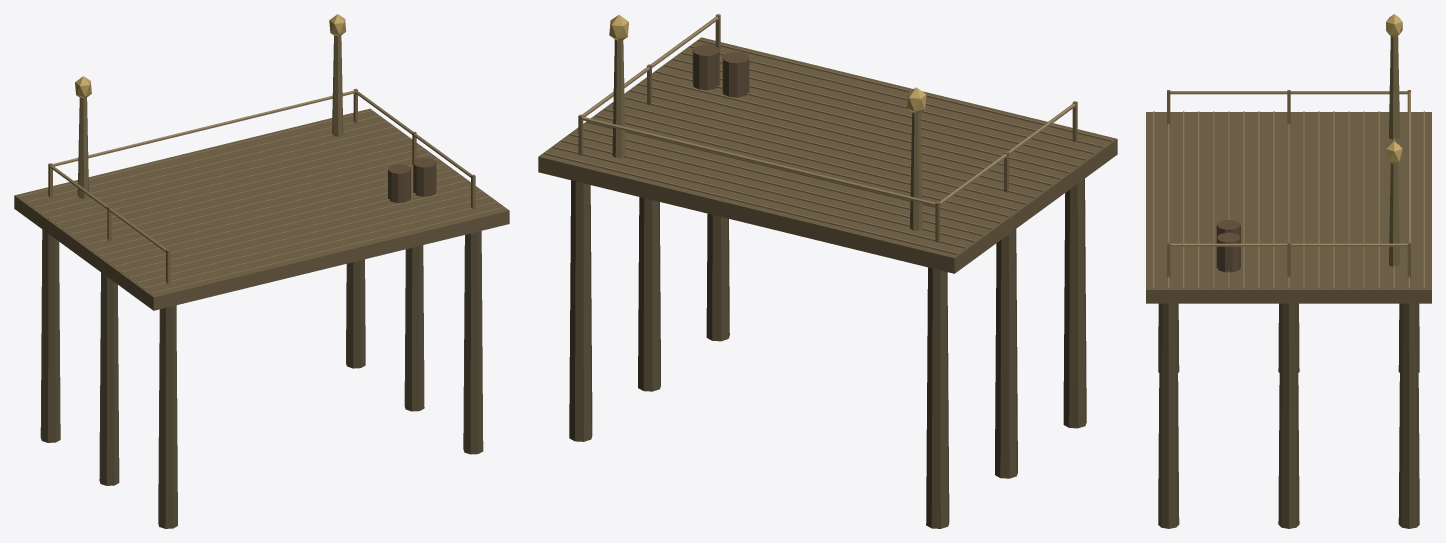
The model's file is dock.glb.
3 renders of one model, left to right at view 1: azimuth 30°, elevation 25°; view 2: azimuth 150°, elevation 25°; view 3: azimuth 270°, elevation 25°, orthographic. The views are drawn at different scales.
Visible parts, largest first — view 1: dock; view 2: dock; view 3: dock.
Boxes of the visible parts, x1,y1,x2,y2 form: dock: (14, 14, 509, 528); dock: (538, 14, 1117, 528); dock: (1146, 14, 1431, 528).
Size of the model in its own units: 28 by 27.2 by 19.
